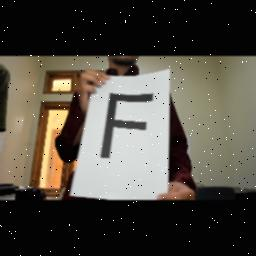f: (99, 89, 155, 165)
